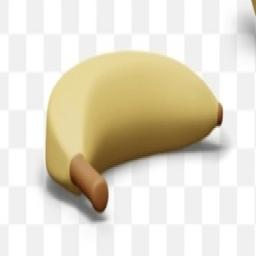banana: (36, 36, 230, 221)
